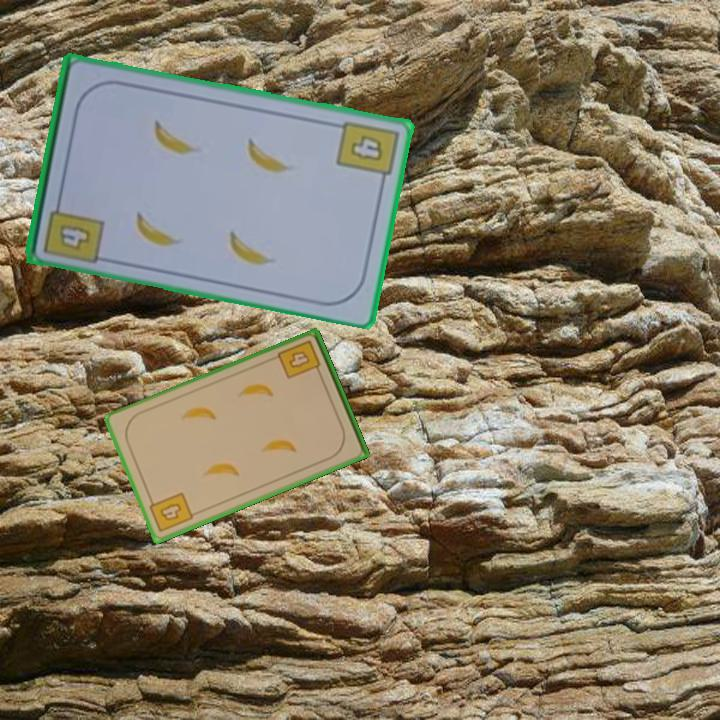4b: (333, 116, 401, 189), (40, 193, 107, 267), (145, 489, 196, 535), (274, 337, 324, 382)
